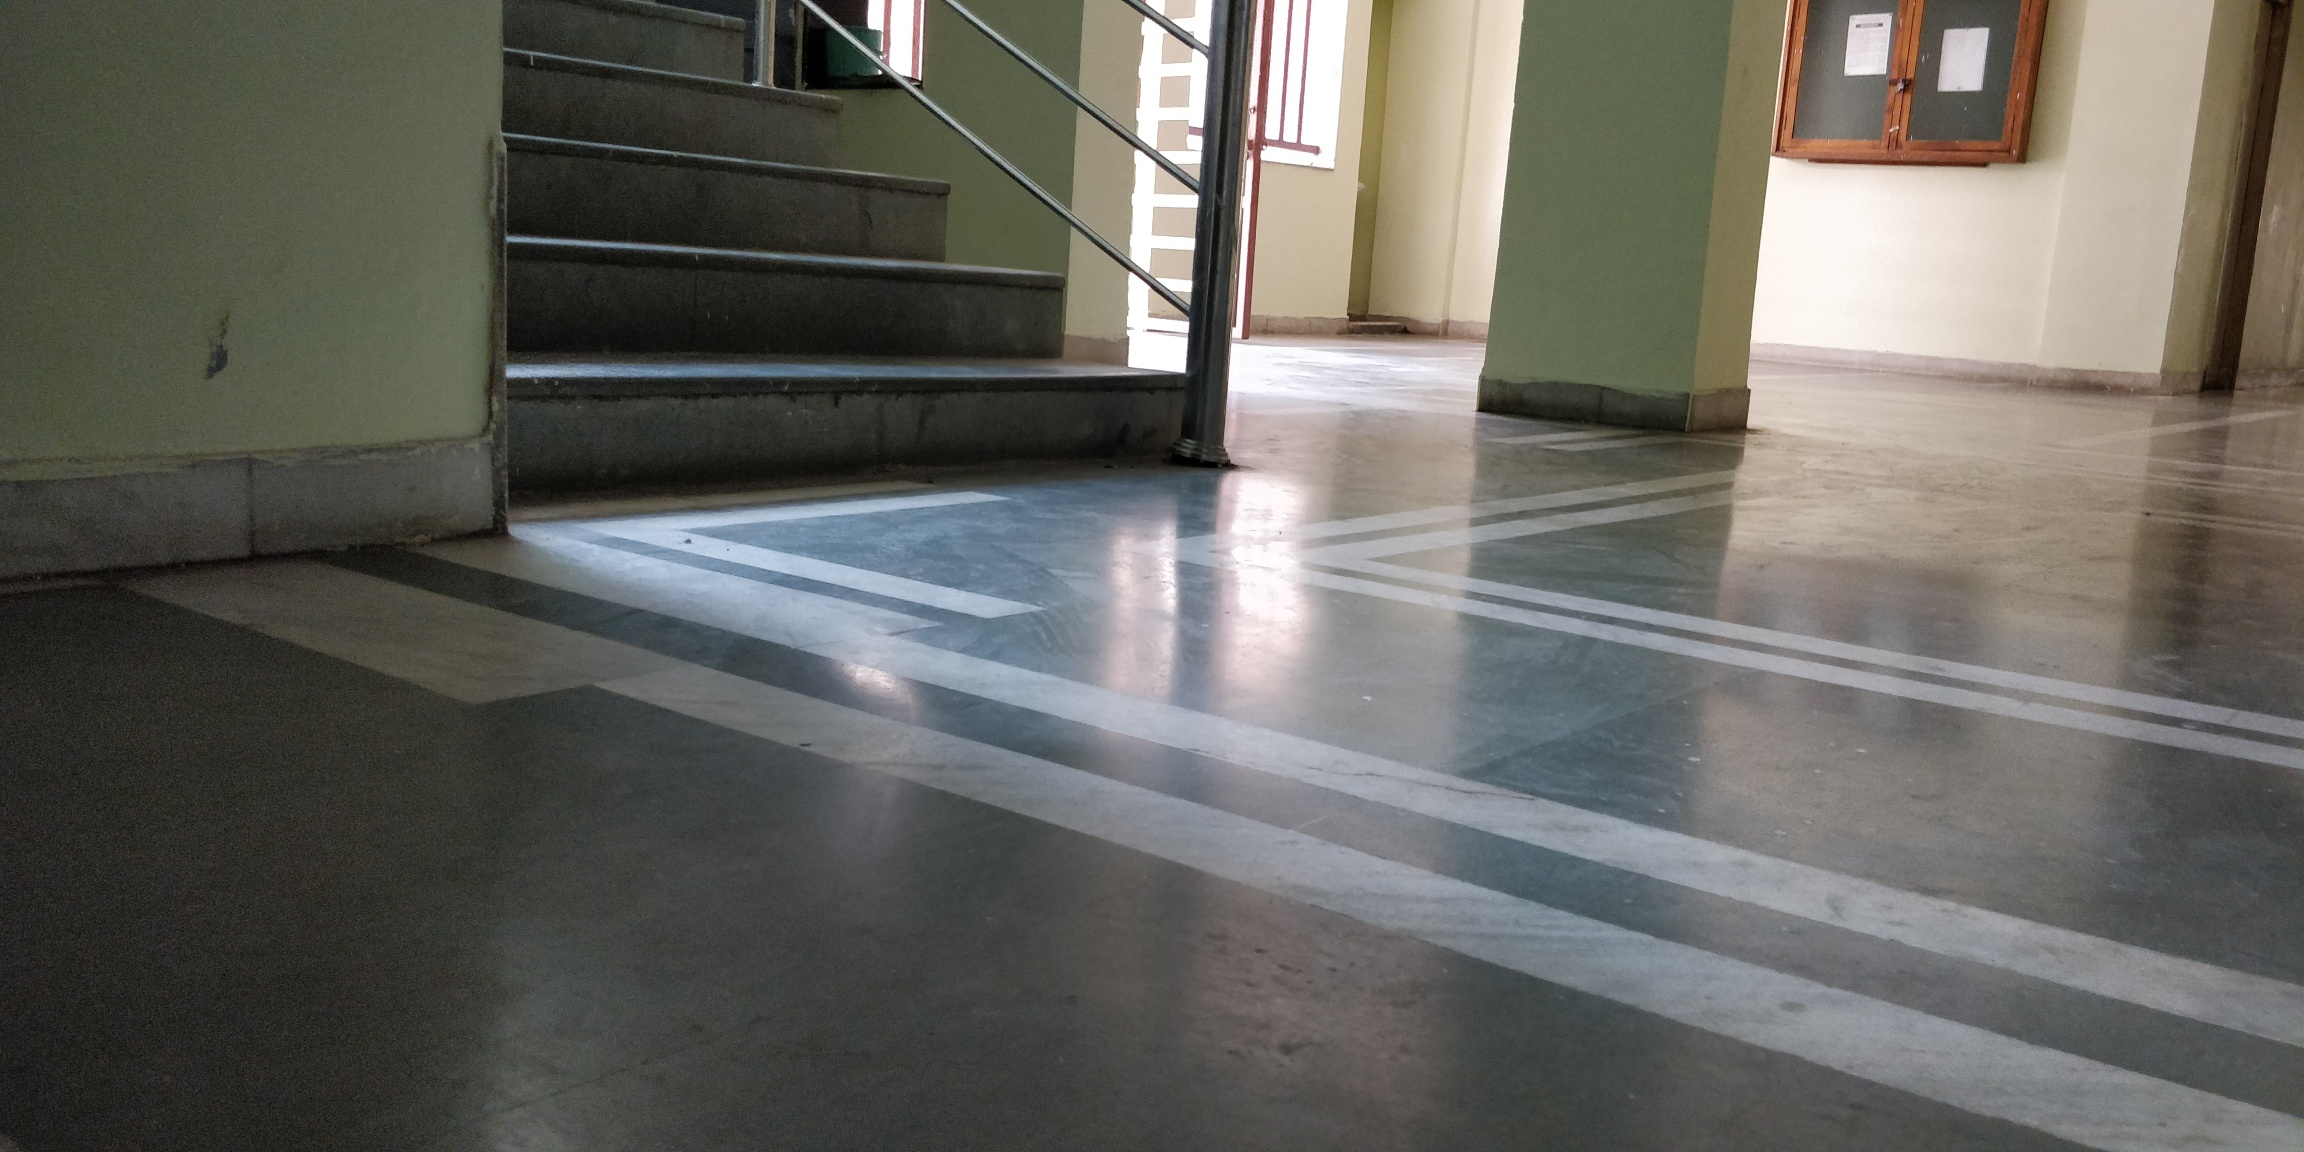stairs_up: (517, 6, 1123, 470)
